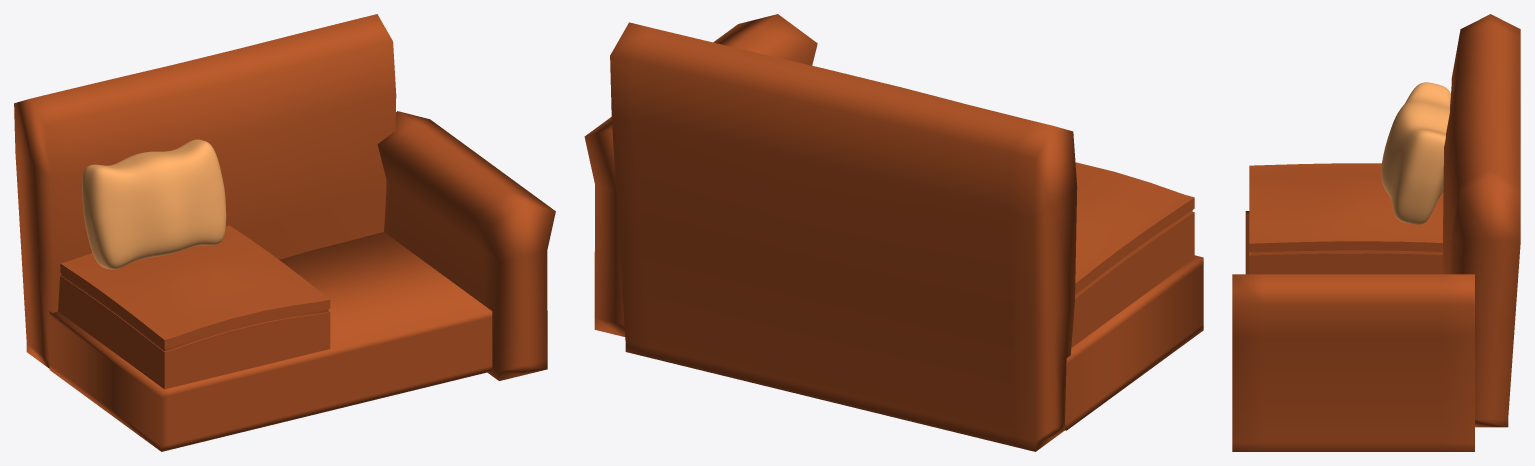
Rendered from sofa.glb.
The picture shows the model from 3 angles, left to right: view 1: azimuth 30°, elevation 25°; view 2: azimuth 150°, elevation 25°; view 3: azimuth 270°, elevation 25°; orthographic projection. The views are drawn at different scales.
Parts seen in each view (by area): view 1: Cube.006, Cube.004, Cube.005, Cube.003, Cube.008; view 2: Cube.006, Cube.005, Cube.004, Cube.003; view 3: Cube.003, Cube.006, Cube.005, Cube.008, Cube.004.
Boxes of the visible parts, x1=… form: Cube.006: x1=14, y1=14, x2=396, y2=368; Cube.004: x1=49, y1=232, x2=492, y2=451; Cube.005: x1=58, y1=225, x2=330, y2=389; Cube.003: x1=377, y1=111, x2=555, y2=380; Cube.008: x1=82, y1=139, x2=226, y2=269; Cube.006: x1=610, y1=22, x2=1077, y2=451; Cube.005: x1=1071, y1=162, x2=1194, y2=347; Cube.004: x1=1065, y1=255, x2=1203, y2=430; Cube.003: x1=584, y1=14, x2=817, y2=336; Cube.003: x1=1232, y1=274, x2=1474, y2=451; Cube.006: x1=1443, y1=14, x2=1520, y2=427; Cube.005: x1=1249, y1=163, x2=1444, y2=274; Cube.008: x1=1381, y1=82, x2=1450, y2=224; Cube.004: x1=1245, y1=211, x2=1249, y2=274.
Bounding box in the file's own units: 1.46 × 0.9492 × 0.9661.
